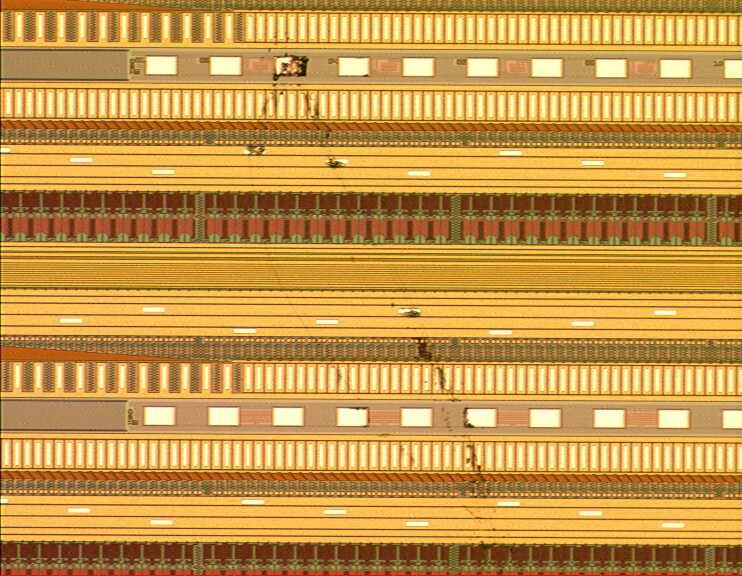SCRATCH: (229, 41, 517, 551)
